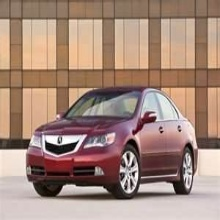no damage: (25, 85, 199, 201)
